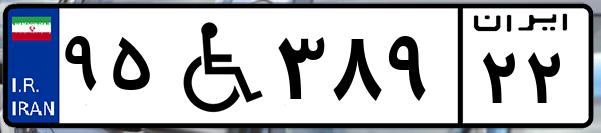2: (475, 38, 525, 113), (525, 38, 570, 115)
3: (270, 28, 330, 110)
5: (110, 28, 158, 98)
8: (330, 28, 385, 110)
9: (385, 28, 445, 110), (57, 26, 110, 100)
ژ (معلولین و جانبازان): (158, 12, 270, 120)
